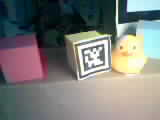duck: (100, 32, 152, 82)
